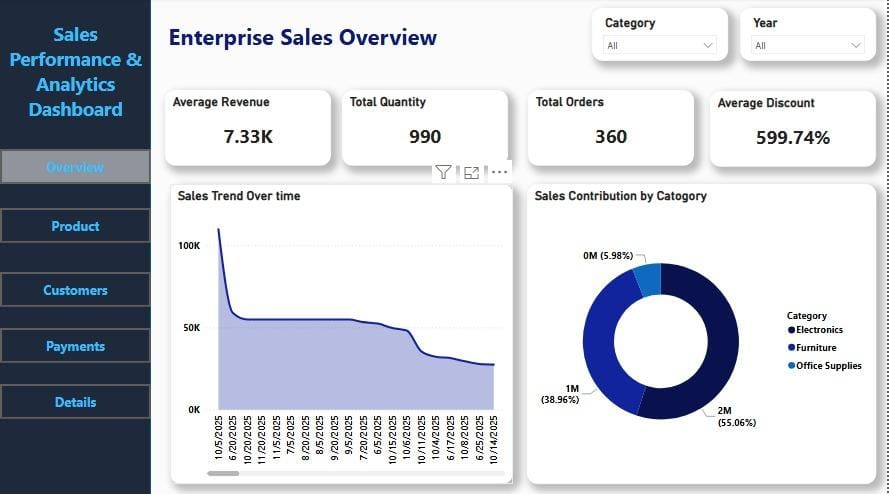

This screenshot's page, from the dashboard's own definition file:
{"tool":"powerbi","page":{"name":"Overview","canvas":[1280,720],"ordinal":0},"visuals":[{"type":"shape","box":[0,0,218.9,720],"z":0},{"type":"actionButton","box":[1.4,217.4,217.4,50.4],"z":1000},{"type":"actionButton","box":[1.4,302.4,217.4,50.4],"z":2000},{"type":"actionButton","box":[1.4,394.6,217.4,50.4],"z":3000},{"type":"actionButton","box":[1.4,475.2,217.4,50.4],"z":4000},{"type":"actionButton","box":[1.4,555.8,217.4,50.4],"z":5000},{"type":"textbox","box":[1.4,27.4,217.4,159.8],"z":6000},{"type":"textbox","box":[239,27.4,493.9,63.4],"z":7000},{"type":"slicer","fields":{"Values":["Sales_Data_Analysis_2025.Year"]},"box":[1067,14.4,195.8,76.3],"z":8000},{"type":"slicer","fields":{"Values":["Sales_Data_Analysis_2025.Category"]},"box":[853.9,14.4,195.8,76.3],"z":9000},{"type":"cardVisual","title":"Average Revenue ","fields":{"Data":["Avg(Sales_Data_Analysis_2025.Sales)"]},"box":[239,132.5,239,109.4],"z":10000},{"type":"cardVisual","title":"Total Quantity","fields":{"Data":["Sum(Sales_Data_Analysis_2025.Quantity)"]},"box":[493.9,132.5,239,109.4],"z":11000},{"type":"cardVisual","title":"Total Orders","fields":{"Data":["Count(Sales_Data_Analysis_2025.Order_ID)"]},"box":[761.8,132.5,239,109.4],"z":12000},{"type":"cardVisual","title":"Average Discount","fields":{"Data":["Avg(Sales_Data_Analysis_2025.Discount)"]},"box":[1023.8,133.9,239,109.4],"z":13000},{"type":"areaChart","title":"Sales Trend Over time","fields":{"Category":["Sales_Data_Analysis_2025.Order_Date"],"Y":["Sum(Sales_Data_Analysis_2025.Sales)"]},"box":[246.2,267.8,493.9,432],"z":14000},{"type":"donutChart","title":"Sales Contribution by Catogory","fields":{"Category":["Sales_Data_Analysis_2025.Category"],"Y":["Sum(Sales_Data_Analysis_2025.Sales)"]},"box":[760.3,267.8,502.6,432],"z":15000}]}

Visuals, with their boxes in screenshot pixels (x1, y1, x2, y2), scaled from the page's 1280x720 canvas onto the 889x494 screenshot:
shape: box=[0, 0, 152, 493]
actionButton: box=[1, 149, 152, 184]
actionButton: box=[1, 207, 152, 242]
actionButton: box=[1, 271, 152, 305]
actionButton: box=[1, 326, 152, 361]
actionButton: box=[1, 381, 152, 416]
textbox: box=[1, 19, 152, 128]
textbox: box=[166, 19, 509, 62]
slicer - Sales_Data_Analysis_2025.Year: box=[741, 10, 877, 62]
slicer - Sales_Data_Analysis_2025.Category: box=[593, 10, 729, 62]
"Average Revenue " cardVisual: box=[166, 91, 332, 166]
"Total Quantity" cardVisual: box=[343, 91, 509, 166]
"Total Orders" cardVisual: box=[529, 91, 695, 166]
"Average Discount" cardVisual: box=[711, 92, 877, 167]
"Sales Trend Over time" areaChart: box=[171, 184, 514, 480]
"Sales Contribution by Catogory" donutChart: box=[528, 184, 877, 480]
